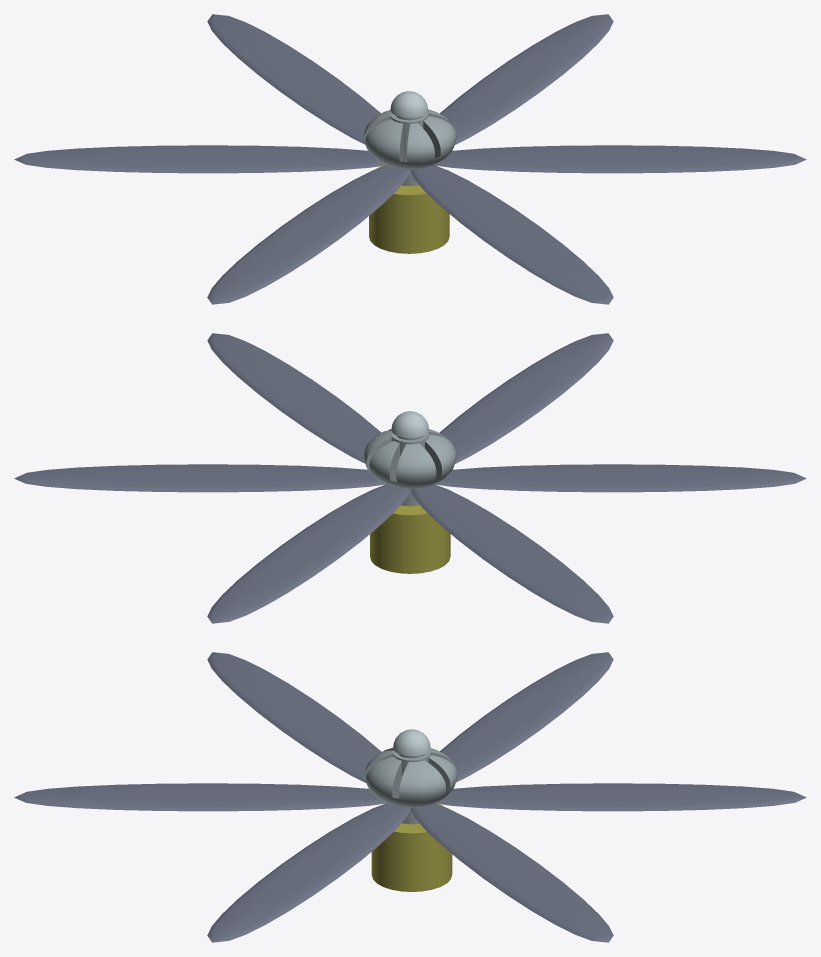
The model's file is Propeller1.fbx.
3 renders of one model, top to bottom at view 1: azimuth 30°, elevation 25°; view 2: azimuth 150°, elevation 25°; view 3: azimuth 270°, elevation 25°, orthographic.
Parts seen in each view (by area): view 1: Model; view 2: Model; view 3: Model.
Part boxes in pixels (left/top/right/bottom): Model: left=14, top=14, right=806, bottom=304; Model: left=14, top=333, right=806, bottom=623; Model: left=14, top=652, right=806, bottom=942.
Size of the model in its own units: 349 by 80.66 by 403.
